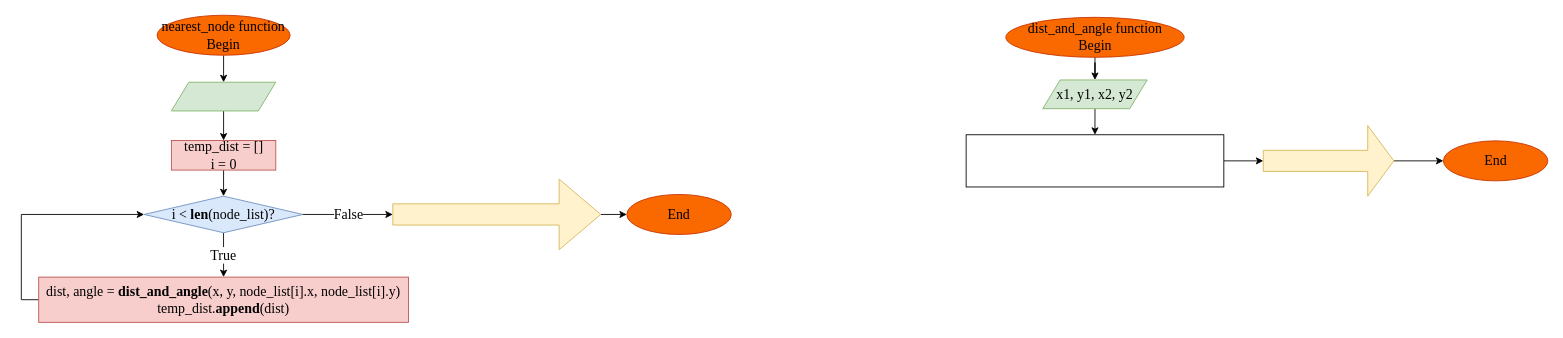
This 1563x338 diagram has some shape labels left out. The shapes that lost their labels are listed below. From the top down, each one's centre as x and y in pixels, then its label:
the point at 223,96: x, y
the point at 1094,160: dist = math.sqrt((x1-x2)**2 + (y1-y2)**2) angle = math.atan2(y2-y1, x2-x1)
the point at 1328,160: tuple(dist, angle)
the point at 496,214: temp_dist. index ( min (temp_dist))
